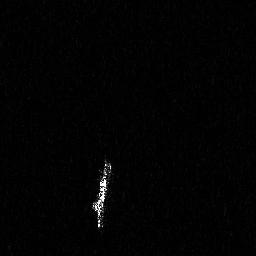ship: (88, 153, 112, 231)
